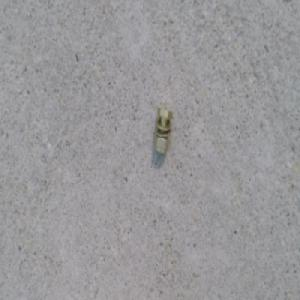BoltNutSet: (151, 108, 173, 155)
